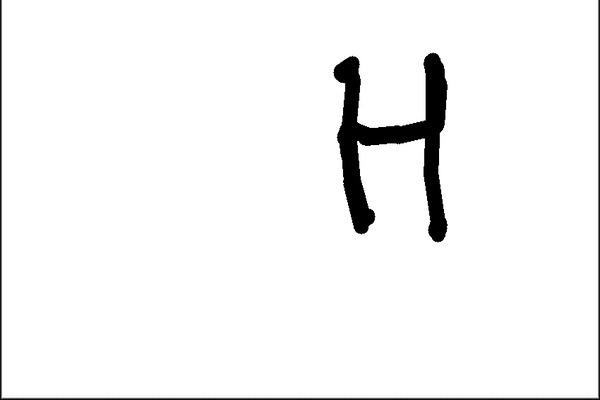H: (323, 46, 457, 248)
